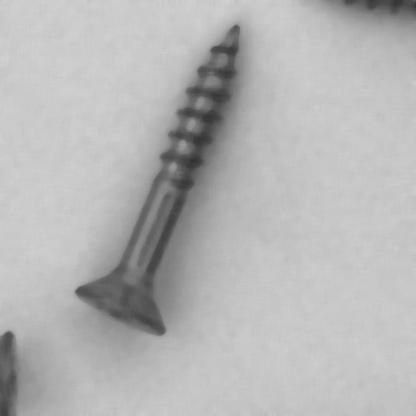metal: (74, 22, 242, 336)
